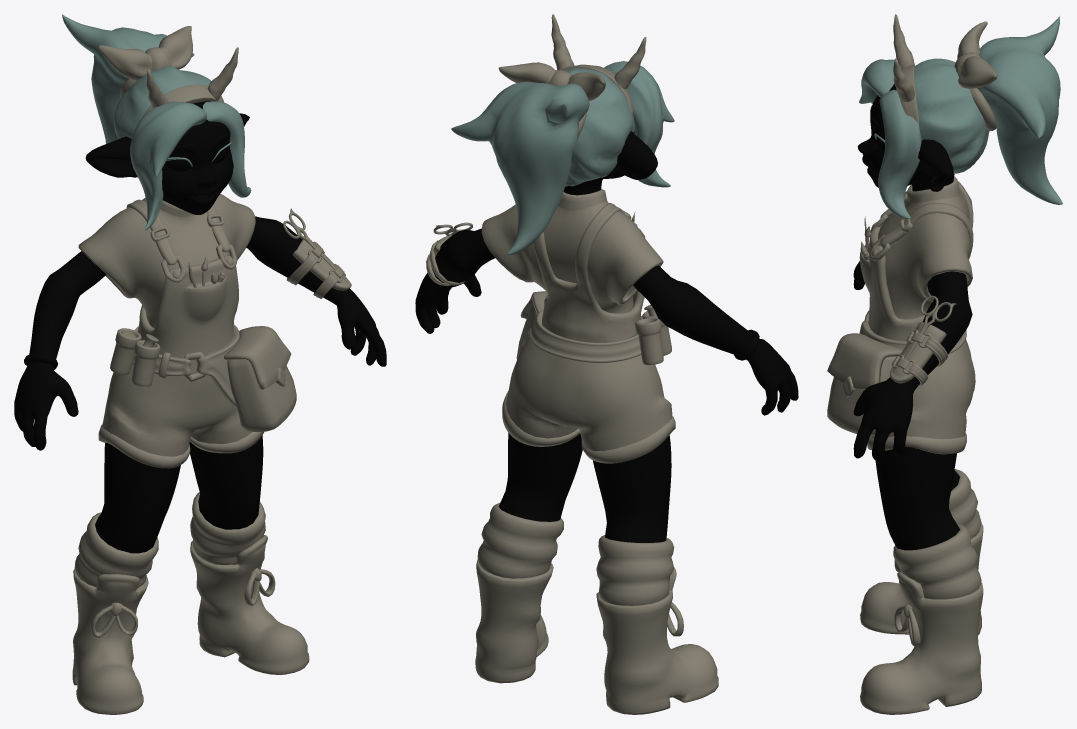
The model's file is Creative_Chloe.fbx.
The picture shows the model from 3 angles, left to right: view 1: azimuth 30°, elevation 25°; view 2: azimuth 150°, elevation 25°; view 3: azimuth 270°, elevation 25°; orthographic projection. The views are drawn at different scales.
Parts seen in each view (by area): view 1: Body, Shoes, Overalls, Hair, ToolBelt, Shirt, Scissor_Guard; view 2: Shoes, Body, Hair, Overalls, Shirt, ToolBelt, Scissor_Guard; view 3: Hair, Shoes, Body, Overalls, Shirt, ToolBelt, Scissor_Guard.
Part boxes in pixels (left/top/right/bottom): Body: left=14, top=101, right=386, bottom=553; Shoes: left=72, top=492, right=309, bottom=714; Overalls: left=98, top=199, right=263, bottom=468; Hair: left=62, top=14, right=251, bottom=230; ToolBelt: left=110, top=324, right=296, bottom=431; Shirt: left=78, top=194, right=255, bottom=328; Scissor_Guard: left=283, top=208, right=351, bottom=298; Shoes: left=475, top=503, right=718, bottom=714; Body: left=415, top=131, right=798, bottom=542; Hair: left=451, top=14, right=674, bottom=255; Overalls: left=502, top=203, right=675, bottom=463; Shirt: left=481, top=189, right=663, bottom=313; ToolBelt: left=516, top=291, right=671, bottom=365; Scissor_Guard: left=426, top=222, right=472, bottom=285; Hair: left=859, top=14, right=1062, bottom=218; Shoes: left=860, top=469, right=983, bottom=714; Body: left=853, top=83, right=972, bottom=550; Overalls: left=859, top=181, right=975, bottom=454; Shirt: left=878, top=176, right=972, bottom=318; ToolBelt: left=827, top=310, right=966, bottom=436; Scissor_Guard: left=889, top=296, right=956, bottom=385.
Bounding box in the file's own units: 89.46 × 150 × 51.11.
